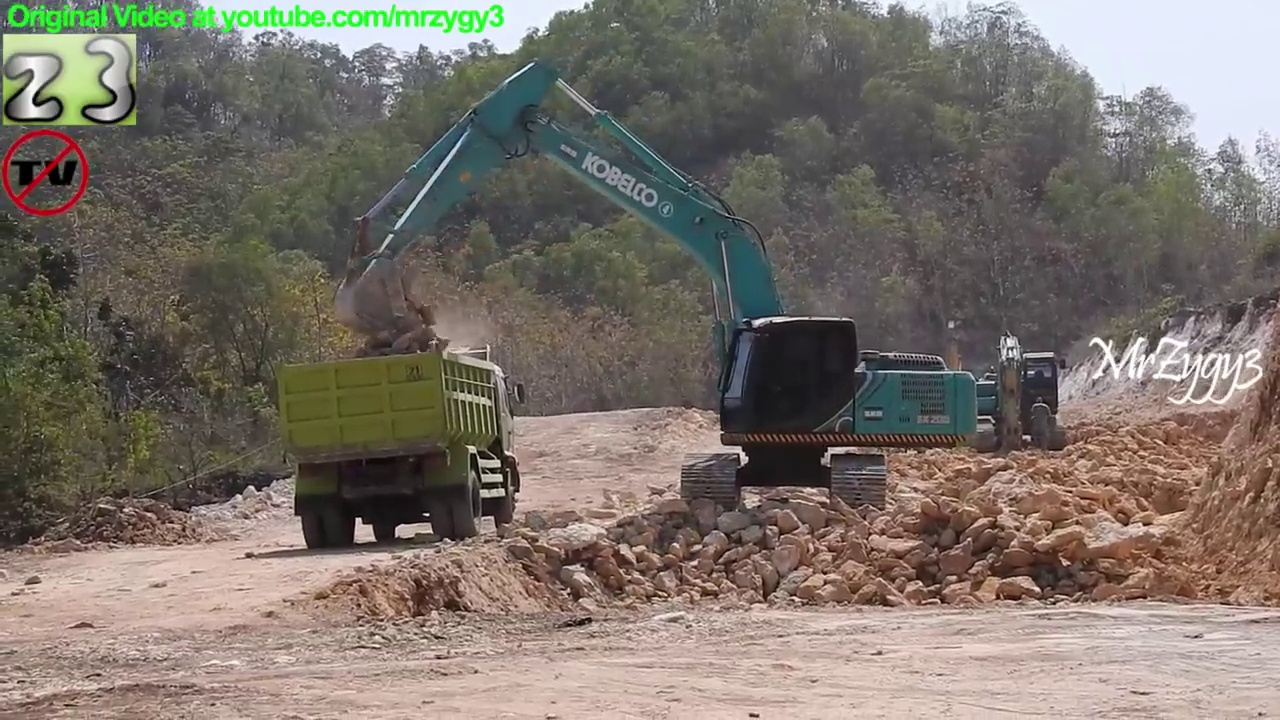excavator: (324, 58, 984, 521), (958, 327, 1069, 461), (916, 319, 993, 437)
truck: (272, 341, 531, 554)
worker: (1024, 392, 1060, 459)
